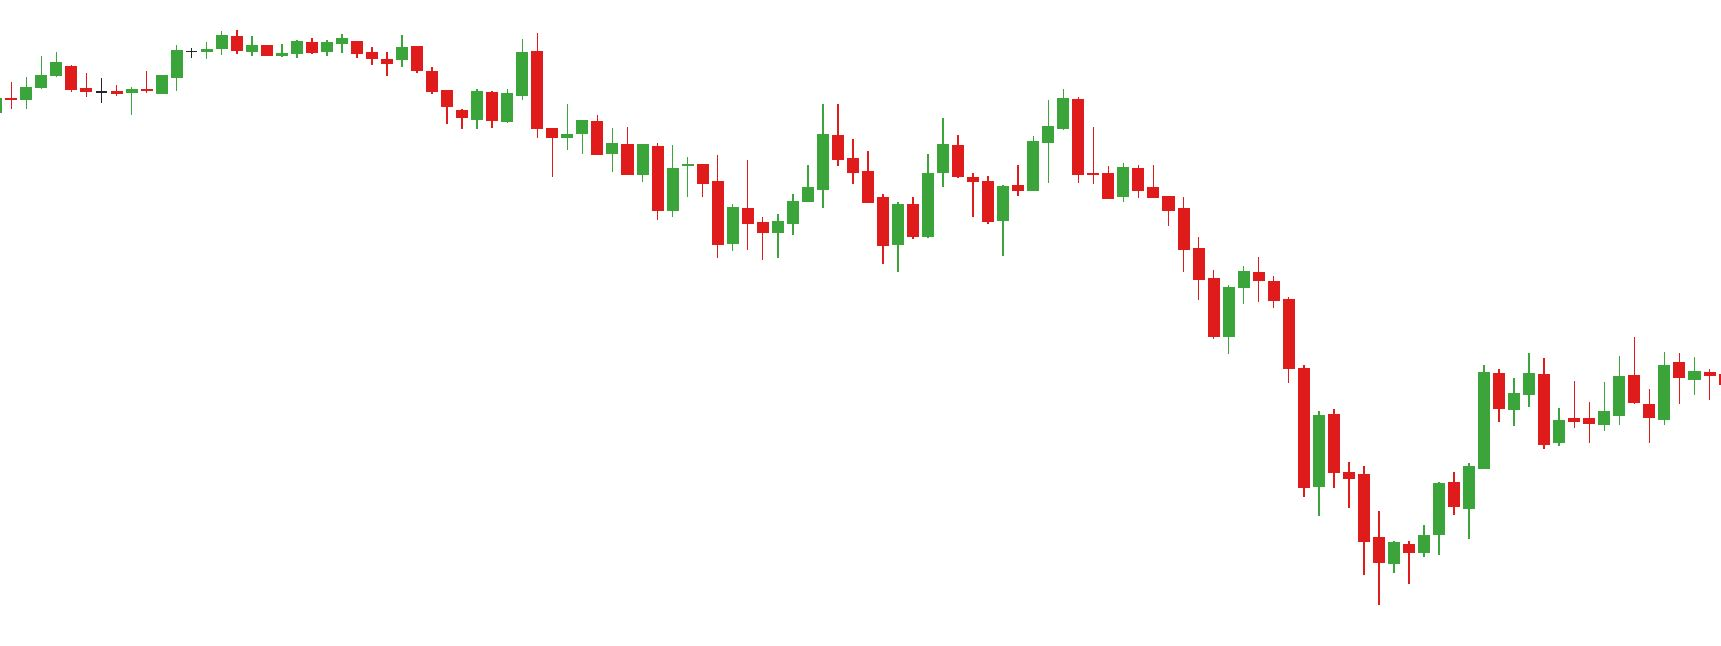buy: (755, 162, 904, 268)
sell: (933, 83, 1090, 222)
